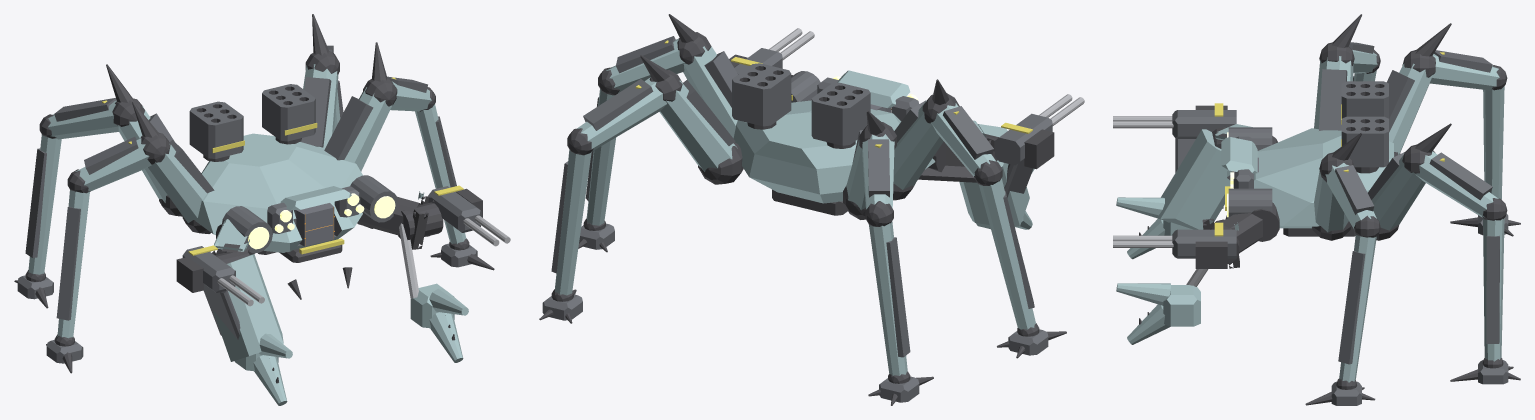
File: shrike.glb
3 views of the same model, side by side, from view 1: azimuth 30°, elevation 25°; view 2: azimuth 150°, elevation 25°; view 3: azimuth 270°, elevation 25° (orthographic). The views are drawn at different scales.
Visible parts, largest first — view 1: carapace, fore-1, vmissile-1, vmissile1, femur0-1, tarsus1-1, tarsus01, tarsus0-1_top, femur01_top, femur01, tibia1-1, tibia0-1 (+38 smaller); view 2: carapace, vmissile1, vmissile-1, tarsus11, tarsus0-1, femur11, tarsus1-1, femur0-1, tibia11, tarsus01, femur01, fore-1 (+31 smaller); view 3: carapace, fore-1, vmissile1, tarsus1-1, femur11, vmissile-1, tarsus01, tarsus01_top, femur1-1, tarsus11_top, tibia11, tarsus11 (+40 smaller).
Boxes of the visible parts, x1,y1,x2,y2 form: carapace: (195,133,362,252); fore-1: (213,254,283,361); vmissile-1: (189,101,243,158); vmissile1: (262,84,315,141); femur0-1: (148,144,206,223); tarsus1-1: (28,134,61,274); tarsus01: (415,104,466,243); tarsus0-1_top: (56,206,80,320); femur01_top: (324,96,373,160); femur01: (344,87,392,171); tibia1-1: (48,100,118,139); tibia0-1: (75,138,152,191); carapace: (733,100,935,203); vmissile1: (732,63,791,126); vmissile-1: (811,82,870,145); tarsus11: (555,149,591,295); tarsus0-1: (979,178,1035,329); femur11: (659,80,737,171); tarsus1-1: (869,221,907,375); femur0-1: (893,100,943,189); tibia11: (577,77,666,151); tarsus01: (586,89,616,225); femur01: (683,46,737,138); fore-1: (959,124,1029,226); carapace: (1227,128,1394,228); fore-1: (1159,129,1230,229); vmissile1: (1341,116,1388,167); tarsus1-1: (1483,86,1504,199); femur11: (1371,155,1425,230); vmissile-1: (1341,81,1388,118); tarsus01: (1339,234,1376,382); tarsus01_top: (1338,250,1365,364); femur1-1: (1389,63,1433,154); tarsus11_top: (1486,235,1499,343); tibia11: (1415,151,1498,217); tarsus11: (1483,218,1504,361).
Bounding box in the file's own units: 28.94 × 15.03 × 24.15.
